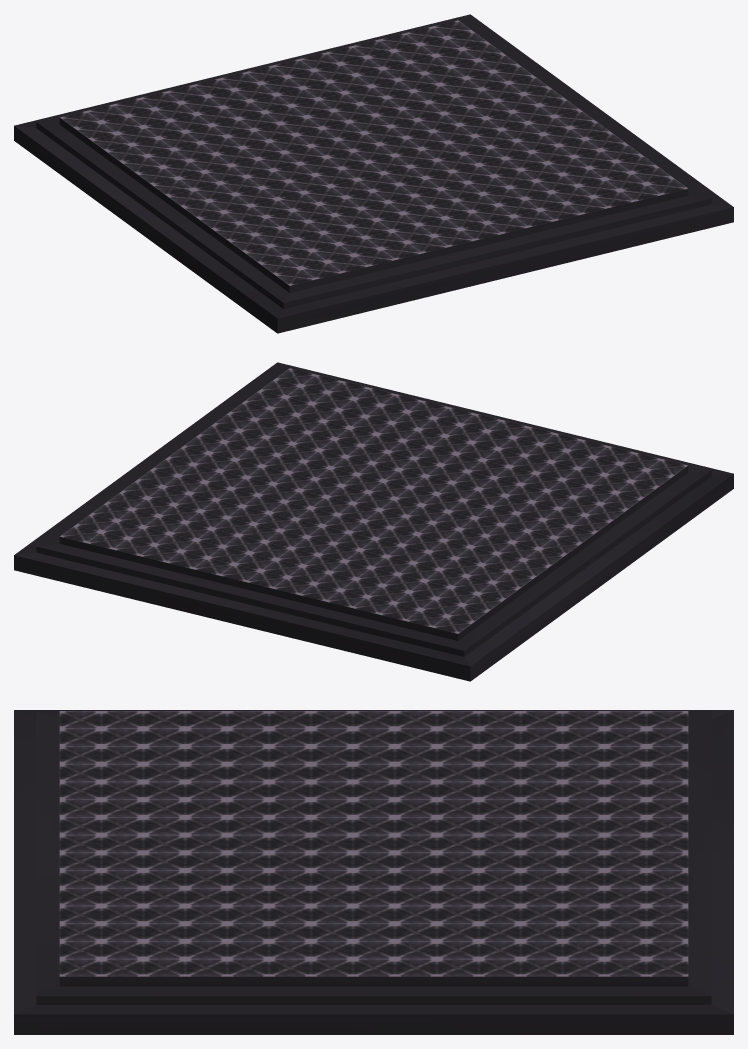
The model's file is Ceiling_50x50.glb.
3 views of the same model, one above another, from view 1: azimuth 30°, elevation 25°; view 2: azimuth 150°, elevation 25°; view 3: azimuth 270°, elevation 25° (orthographic). The views are drawn at different scales.
Visible parts, largest first — view 1: Roof.001; view 2: Roof.001; view 3: Roof.001.
Boxes of the visible parts, x1,y1,x2,y2 form: Roof.001: [14, 14, 733, 333]; Roof.001: [14, 362, 733, 681]; Roof.001: [14, 710, 733, 1034].
Size of the model in its own units: 50 by 2.98 by 50.
1 material, 1 textured.
